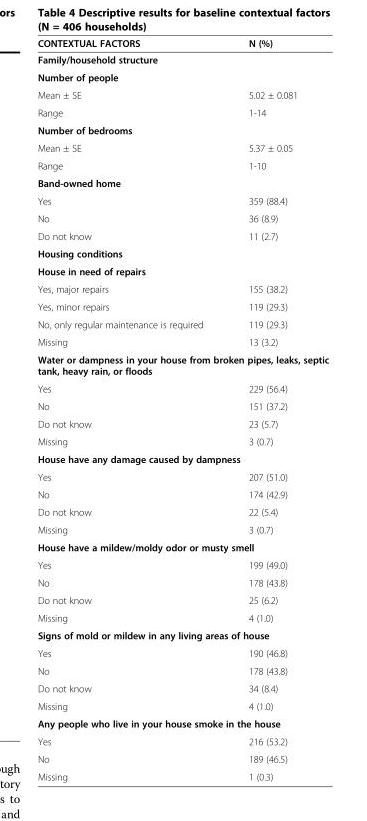table: (36, 37, 328, 782)
table column: (36, 37, 225, 782), (225, 37, 328, 782)
table column header: (36, 37, 328, 51)
table projected row header: (36, 350, 328, 379), (36, 244, 328, 262), (36, 449, 328, 467), (36, 626, 328, 644), (36, 714, 328, 732), (36, 51, 328, 68), (36, 68, 328, 85), (36, 121, 328, 138), (36, 174, 328, 191), (36, 262, 328, 279), (36, 538, 328, 555)
table row: (36, 350, 328, 379), (36, 85, 328, 103), (36, 103, 328, 121), (36, 138, 328, 156), (36, 156, 328, 174), (36, 191, 328, 209), (36, 209, 328, 227), (36, 244, 328, 262), (36, 279, 328, 297), (36, 297, 328, 315), (36, 332, 328, 350), (36, 379, 328, 397), (36, 414, 328, 432), (36, 449, 328, 467), (36, 467, 328, 485), (36, 502, 328, 520), (36, 520, 328, 538), (36, 555, 328, 573), (36, 573, 328, 591), (36, 608, 328, 626), (36, 626, 328, 644), (36, 661, 328, 679), (36, 679, 328, 697), (36, 714, 328, 732), (36, 749, 328, 767), (36, 51, 328, 68), (36, 68, 328, 85), (36, 121, 328, 138), (36, 174, 328, 191), (36, 227, 328, 244), (36, 262, 328, 279), (36, 315, 328, 332), (36, 397, 328, 414), (36, 432, 328, 449), (36, 485, 328, 502), (36, 538, 328, 555), (36, 591, 328, 608), (36, 644, 328, 661), (36, 697, 328, 714), (36, 732, 328, 749), (36, 767, 328, 782), (36, 37, 328, 51)
